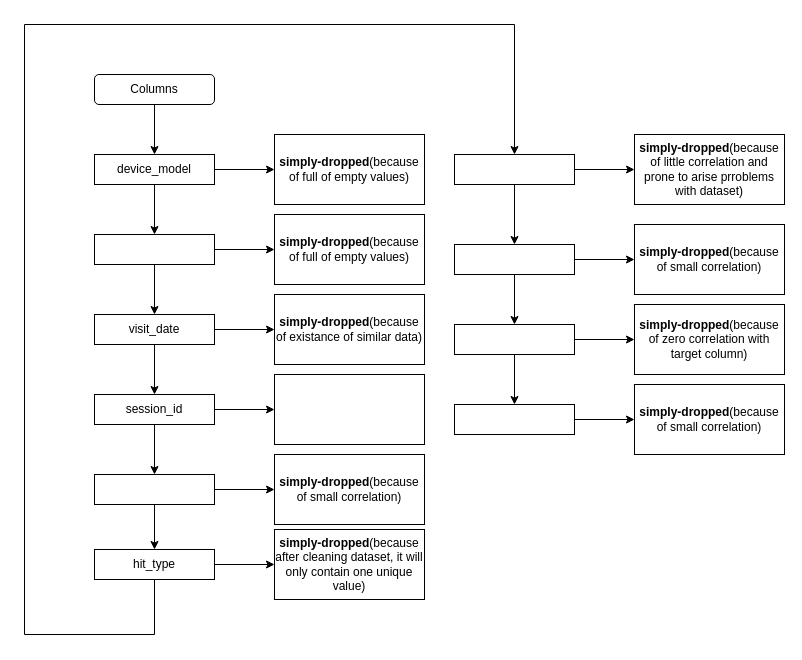
Some shapes in this 802 by 660 pixel diagram are drawn without their labels. Here are the shapes that lost their labels. From the top down, the centre of each, then its label:
At pixel 514 169: "hit_time".
At pixel 154 249: "event_value".
At pixel 514 259: "utm_keyword".
At pixel 514 339: "client_id".
At pixel 349 409: "simply-dropped (because of unnecessity)".
At pixel 514 419: "device_brand".
At pixel 154 489: "event_category".
